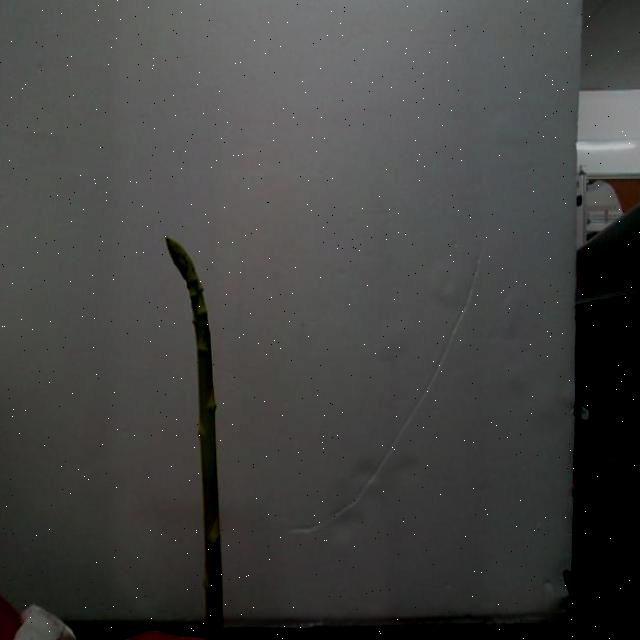aspargus: (166, 239, 225, 640)
